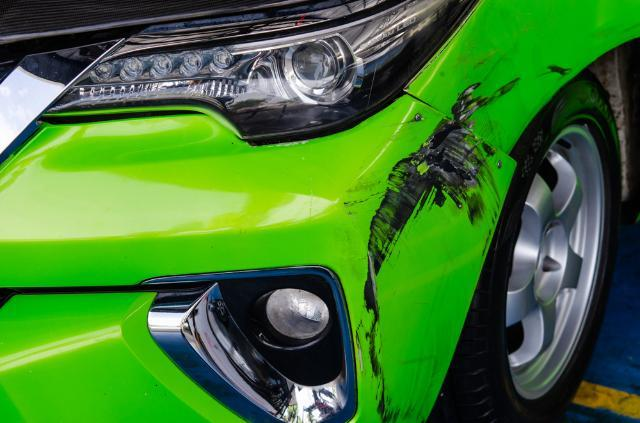scratch: (348, 116, 502, 423), (447, 62, 574, 149)
